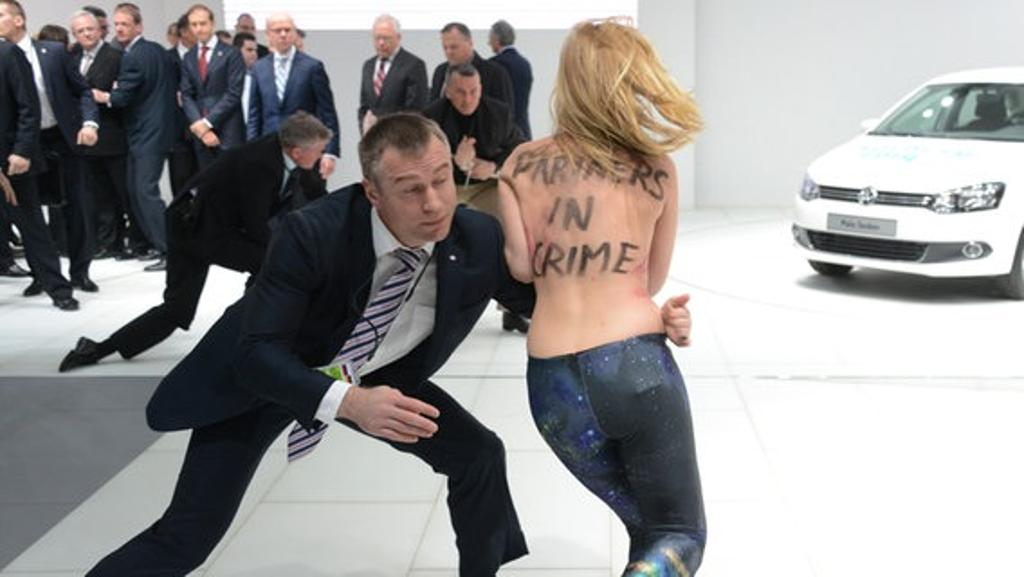face: (380, 159, 455, 240), (450, 76, 480, 114), (441, 32, 467, 63), (300, 137, 325, 168), (269, 20, 293, 50), (373, 26, 395, 57), (73, 19, 96, 45), (187, 14, 208, 41), (114, 15, 136, 40), (90, 16, 108, 43), (0, 5, 15, 36), (242, 40, 256, 65), (238, 17, 253, 40), (487, 27, 499, 51), (290, 39, 303, 58), (170, 26, 182, 44)
